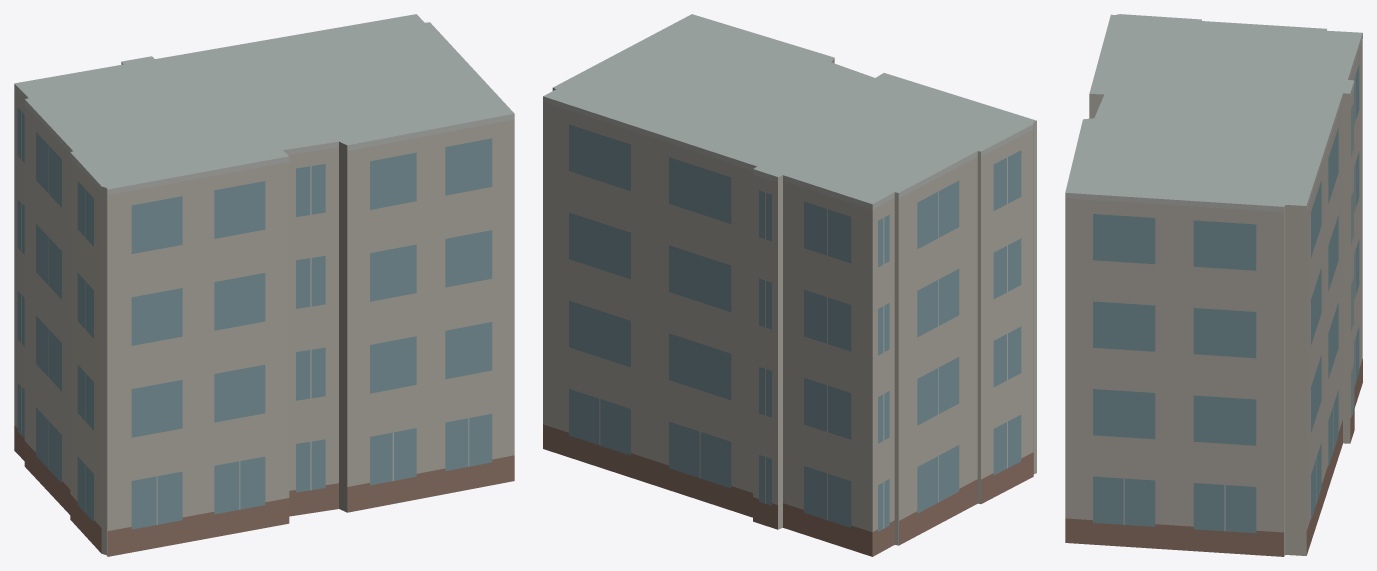
The model's file is survey-upis-32536987.glb.
3 renders of one model, left to right at view 1: azimuth 30°, elevation 25°; view 2: azimuth 150°, elevation 25°; view 3: azimuth 270°, elevation 25°, orthographic. The views are drawn at different scales.
Visible parts, largest first — view 1: survey-upis-32536987.tmp; view 2: survey-upis-32536987.tmp; view 3: survey-upis-32536987.tmp.
Boxes of the visible parts, x1,y1,x2,y2 form: survey-upis-32536987.tmp: (14,14,514,556); survey-upis-32536987.tmp: (543,14,1036,556); survey-upis-32536987.tmp: (1065,14,1362,556).
Bounding box in the file's own units: 18.56 × 15.7 × 12.11.
